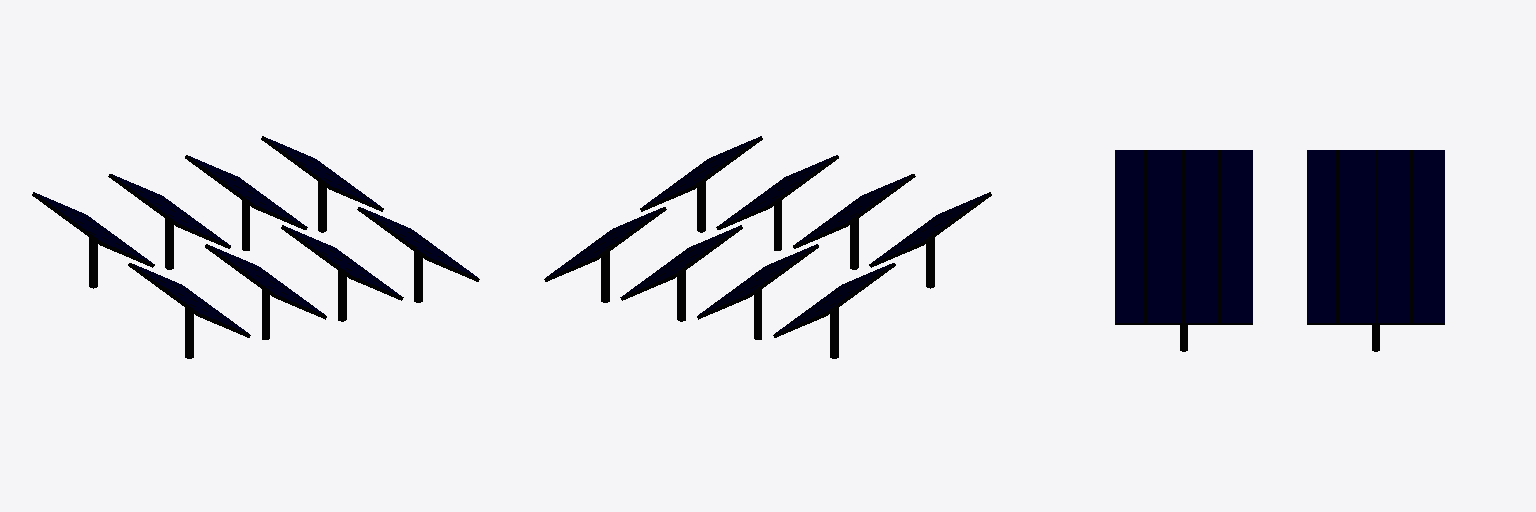
The model's file is solar.obj.
3 views of the same model, side by side, from view 1: azimuth 30°, elevation 25°; view 2: azimuth 150°, elevation 25°; view 3: azimuth 270°, elevation 25° (orthographic).
Parts seen in each view (by area): view 1: Cylinder; view 2: Cylinder; view 3: Cylinder.
Part boxes in pixels (left/top/right/bottom): Cylinder: left=32, top=136, right=479, bottom=358; Cylinder: left=544, top=136, right=991, bottom=358; Cylinder: left=1115, top=150, right=1444, bottom=351.
Bounding box in the file's own units: 8.72 × 2.23 × 8.77.